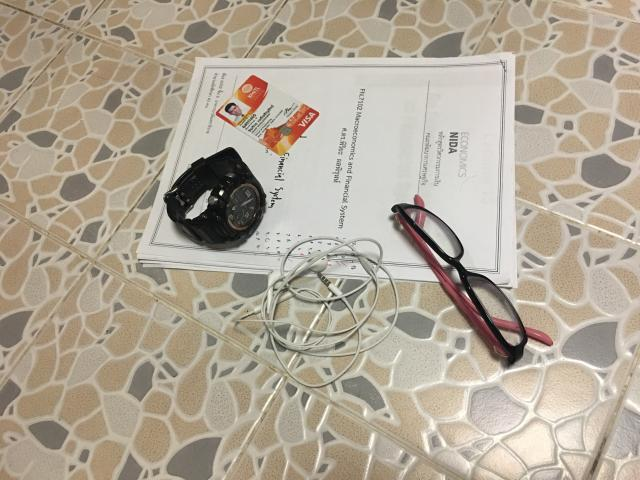Glasses: (391, 204, 552, 364)
Watch: (164, 148, 266, 244)
paper: (136, 52, 516, 286)
wire: (234, 236, 399, 389)
